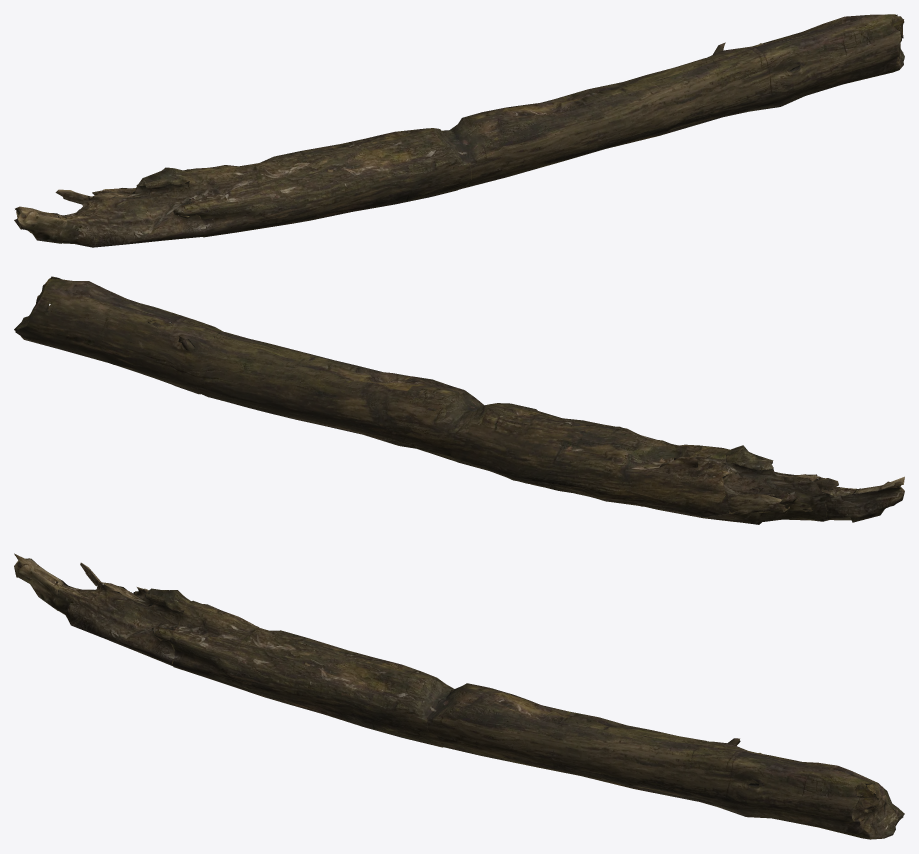
The model's file is dead_tree_trunk.glb.
3 renders of one model, top to bottom at view 1: azimuth 30°, elevation 25°; view 2: azimuth 150°, elevation 25°; view 3: azimuth 330°, elevation 25°, orthographic.
Parts seen in each view (by area): view 1: dead_tree_trunk; view 2: dead_tree_trunk; view 3: dead_tree_trunk.
Boxes of the visible parts, x1,y1,x2,y2 form: dead_tree_trunk: [14, 14, 904, 247]; dead_tree_trunk: [14, 276, 904, 524]; dead_tree_trunk: [14, 553, 904, 839].
Bounding box in the file's own units: 3.05 × 0.2914 × 0.2735.
1 material, 1 textured.
